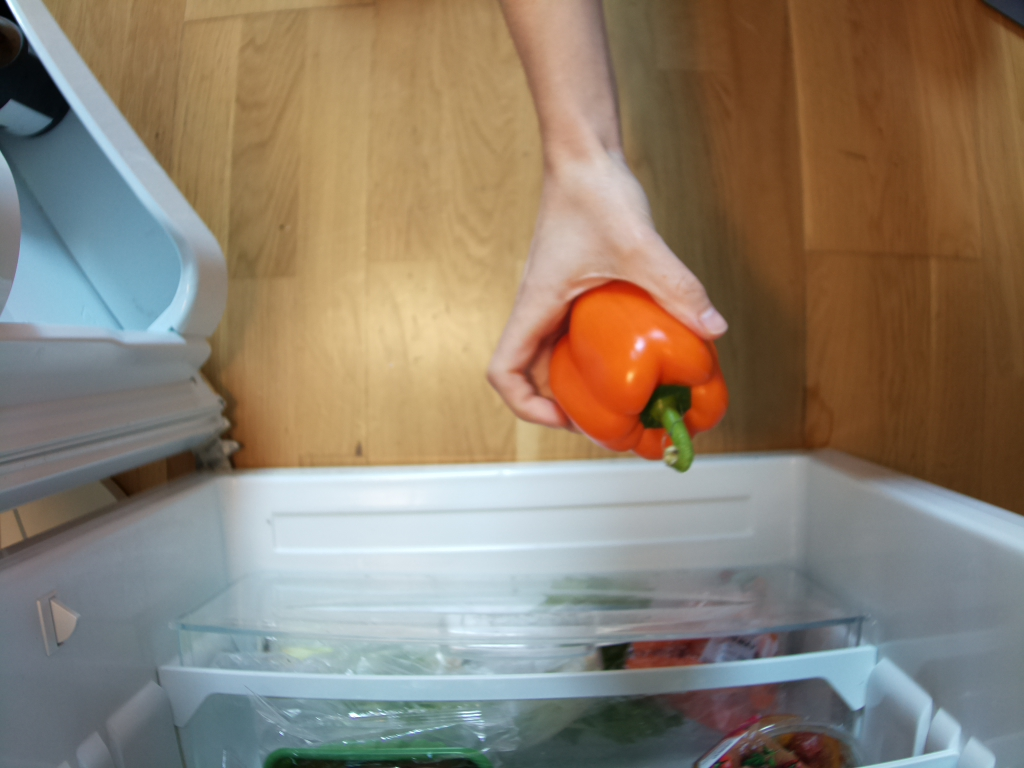pepper: (546, 281, 730, 474)
